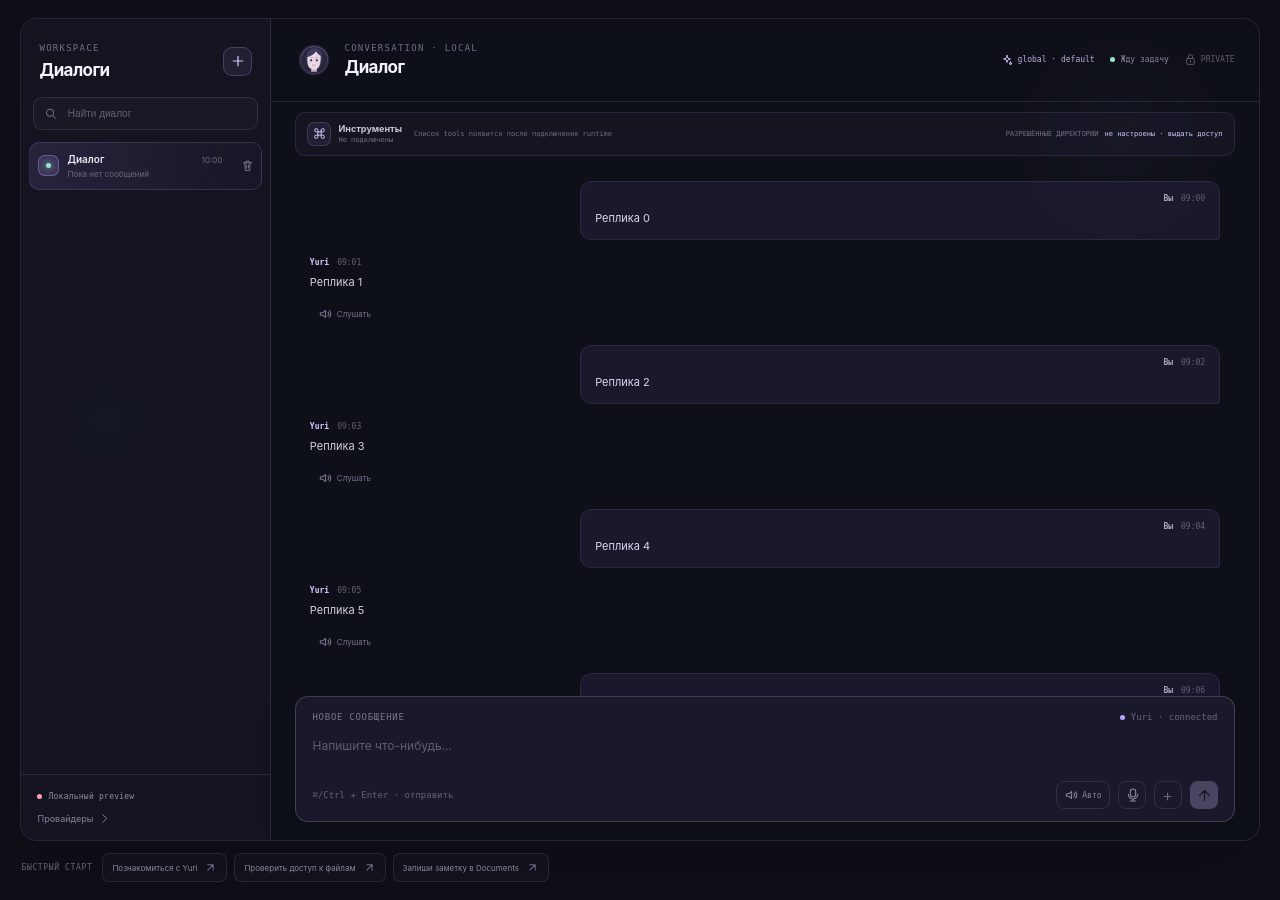
the recording timer does not re-render the chat (M-42) › ticks the visible duration without re-running the chat surface
The image size is (1280, 900).
expect the text box named "Сообщение Yuri" is shown: met, box [312,722,1218,781]
Click the button named "Записать голосовое сообщение": (1132, 795) [1118,781,1146,809]
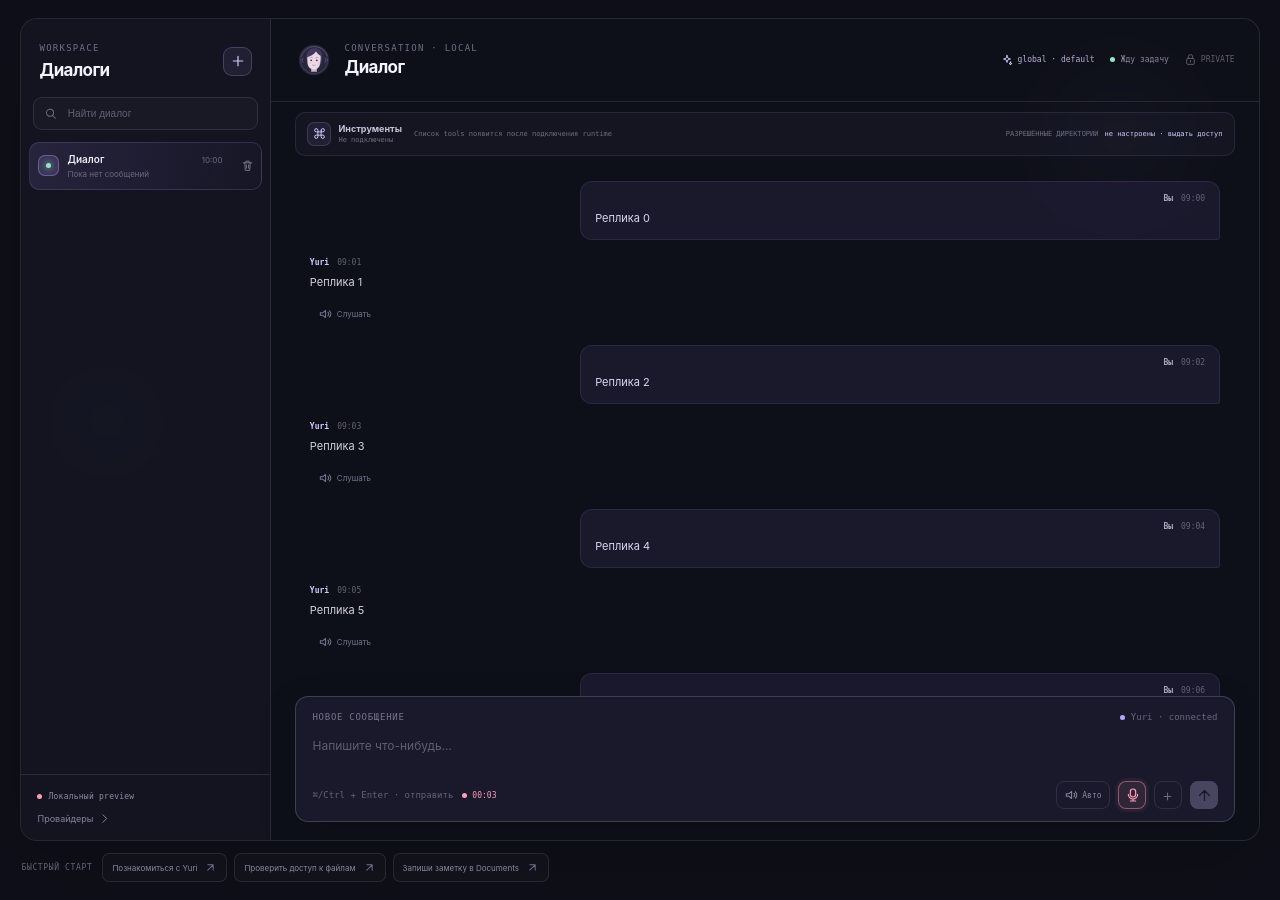
expect the button named "Остановить запись" is shown: met, box [1118,781,1146,809]
expect the text "00:03" is shown: met, box [462,790,496,800]
